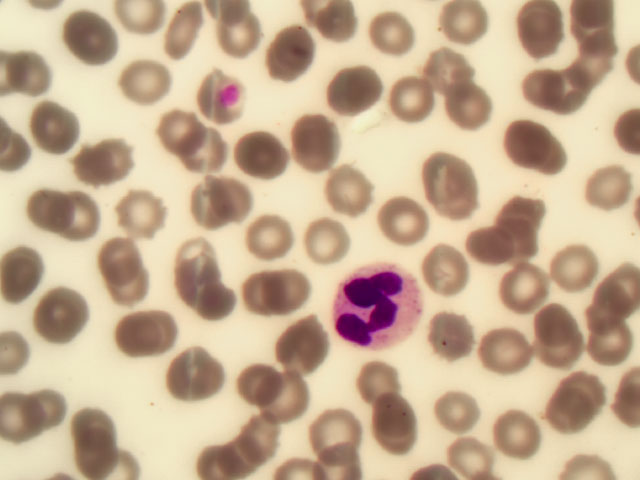RBC: (63, 6, 126, 70), (23, 96, 86, 160), (5, 42, 68, 106), (71, 129, 134, 193), (52, 186, 115, 250), (10, 175, 73, 239), (106, 185, 169, 249), (87, 213, 150, 277), (96, 258, 159, 322), (26, 279, 89, 343), (1, 253, 64, 317), (66, 404, 129, 468), (166, 347, 229, 411), (108, 307, 171, 371), (182, 280, 245, 344), (159, 236, 222, 300), (169, 171, 232, 235), (204, 170, 267, 234), (180, 121, 243, 185), (147, 100, 210, 164), (119, 56, 182, 120), (153, 3, 216, 67), (209, 4, 272, 68), (261, 26, 324, 90), (191, 65, 254, 129), (328, 57, 391, 121), (284, 107, 347, 171), (232, 123, 295, 187), (316, 159, 379, 223), (300, 214, 363, 278), (238, 202, 301, 266), (270, 255, 333, 319), (228, 269, 291, 333), (270, 319, 333, 383), (257, 365, 320, 429), (225, 351, 288, 415), (242, 392, 305, 456), (189, 416, 252, 480), (308, 392, 371, 456), (357, 396, 420, 460), (350, 357, 413, 421), (420, 308, 483, 372), (425, 381, 488, 445), (433, 416, 496, 480), (487, 407, 550, 471), (532, 388, 595, 452), (546, 363, 609, 427), (473, 322, 536, 386), (526, 287, 589, 351), (537, 327, 600, 391), (494, 259, 557, 323), (455, 220, 518, 284), (422, 238, 485, 302), (379, 193, 442, 257), (416, 157, 479, 221), (487, 108, 550, 172), (442, 80, 505, 144), (417, 42, 480, 106), (377, 72, 440, 136), (369, 9, 432, 73), (431, 1, 494, 65), (509, 56, 572, 120), (559, 30, 622, 94), (577, 158, 640, 222), (544, 227, 607, 291), (577, 263, 640, 327), (577, 310, 640, 374), (498, 1, 561, 64), (1, 380, 63, 444)
WBC: (327, 266, 423, 355)
